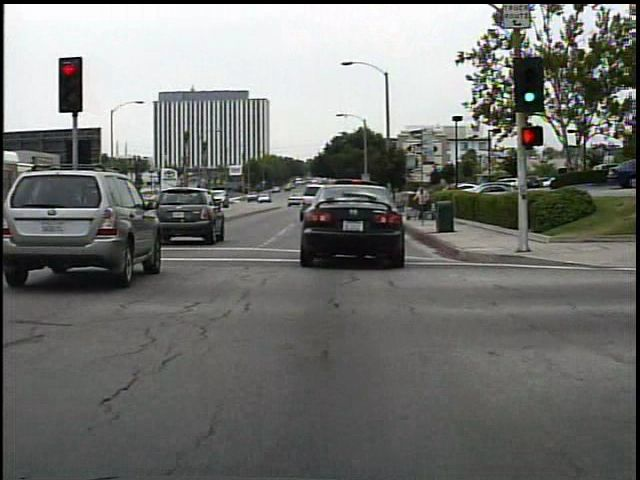person: (411, 181, 431, 225)
